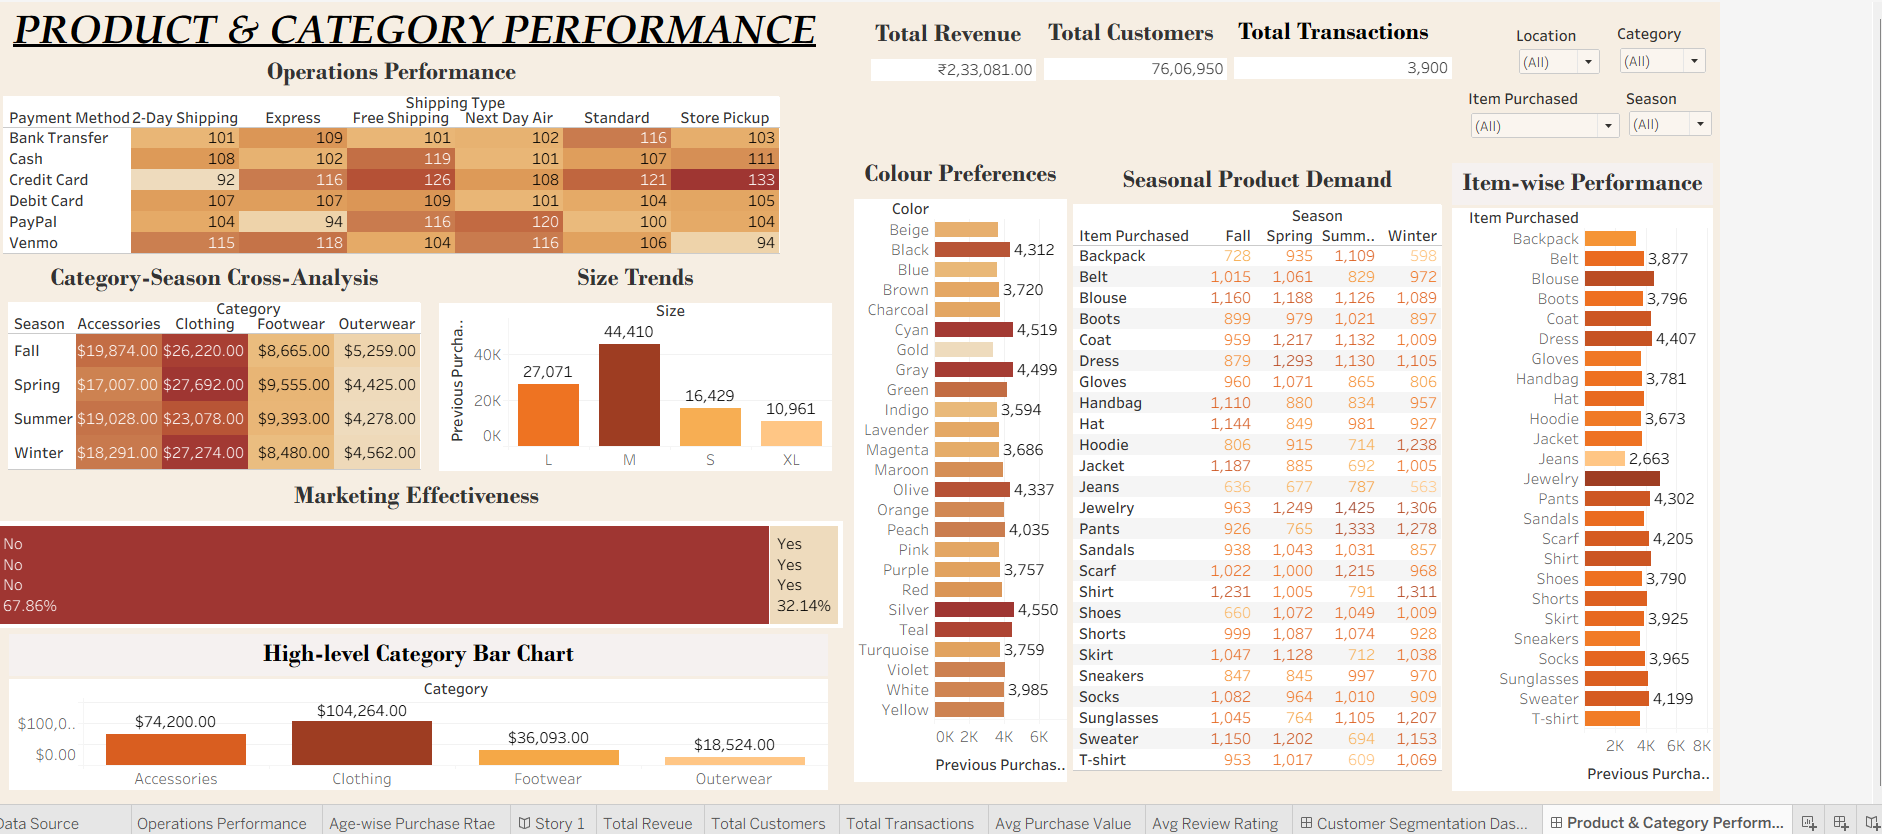

The dashboard page shown, as its layout file describes it:
{"tool":"tableau","page":{"name":"Product & Category Performance","canvas":[1000,1000],"units":"permille","ordinal":1},"visuals":[{"type":"text","box":[16.9,7.5,477.9,56.1]},{"type":"filter","title":"Item-wise performance","param":"[federated.1p8sqk91qwhg50152f4av16mblpr].[none:Item Purchased:nk]","box":[783.7,18.7,90.1,73.6]},{"type":"filter","title":"Category Bar Chart","param":"[federated.1p8sqk91qwhg50152f4av16mblpr].[none:Category:nk]","box":[940.1,18.7,53.5,72.3]},{"type":"filter","title":"Category Bar Chart","param":"[federated.1p8sqk91qwhg50152f4av16mblpr].[none:Season:nk]","box":[722.7,19.9,52.3,61.1]},{"type":"filter","title":"Category Bar Chart","param":"[federated.1p8sqk91qwhg50152f4av16mblpr].[none:Location:nk]","box":[881.4,19.9,51.2,64.8]},{"type":"worksheet","title":"Total Reveue","mark":"Automatic","box":[32.6,82.3,96.5,84.8]},{"type":"worksheet","title":"Total Customers","mark":"Text","box":[140.1,83.5,106.4,87.3]},{"type":"worksheet","title":"Total Transactions","mark":"Automatic","box":[257.6,84.8,127.3,83.5]},{"type":"dashboard-object","box":[789,108.5,186.1,43.6]},{"type":"worksheet","title":"Item-wise performance","mark":"Automatic","rows":["Item Purchased"],"cols":["Previous Purchases"],"box":[844.2,204.5,151.7,793]},{"type":"worksheet","title":"Color preferences","mark":"Automatic","rows":["Color"],"cols":["Item Purchased"],"box":[715.1,207,123.8,785.5]},{"type":"worksheet","title":"Category-season cross analysis","mark":"Square","rows":["Season"],"cols":["Category"],"box":[468.6,208.2,241.3,339.2]},{"type":"worksheet","title":"Operations Performance","mark":"Square","rows":["Payment Method"],"cols":["Shipping Type"],"box":[5.8,212,455.2,321.7]},{"type":"worksheet","title":"Category Bar Chart","mark":"Automatic","rows":["Purchase Amount (USD)"],"cols":["Category"],"box":[8.7,546.1,494.8,238.2]},{"type":"worksheet","title":"Size trends","mark":"Automatic","rows":["Item Purchased"],"cols":["Size"],"box":[512.2,547.4,191.9,433.9]},{"type":"worksheet","title":"Marketing Effectiveness","mark":"Automatic","box":[7,800.5,497.1,189.5]}]}

Visuals, with their boxes on the dashboard's canvas, which has no fixed pixel size, in thousandths of its width and height (x1, y1, x2, y2). These are canvas units, not pixel positions in the 1882x834 screenshot, which may show the page scaled, cropped or inside an application window:
text: [17,8,495,64]
"Item-wise performance" filter: [784,19,874,92]
"Category Bar Chart" filter: [940,19,994,91]
"Category Bar Chart" filter: [723,20,775,81]
"Category Bar Chart" filter: [881,20,933,85]
"Total Reveue" worksheet: [33,82,129,167]
"Total Customers" worksheet (Text marks): [140,84,246,171]
"Total Transactions" worksheet: [258,85,385,168]
dashboard-object: [789,108,975,152]
"Item-wise performance" worksheet: [844,204,996,998]
"Color preferences" worksheet: [715,207,839,992]
"Category-season cross analysis" worksheet (Square marks): [469,208,710,547]
"Operations Performance" worksheet (Square marks): [6,212,461,534]
"Category Bar Chart" worksheet: [9,546,504,784]
"Size trends" worksheet: [512,547,704,981]
"Marketing Effectiveness" worksheet: [7,800,504,990]
